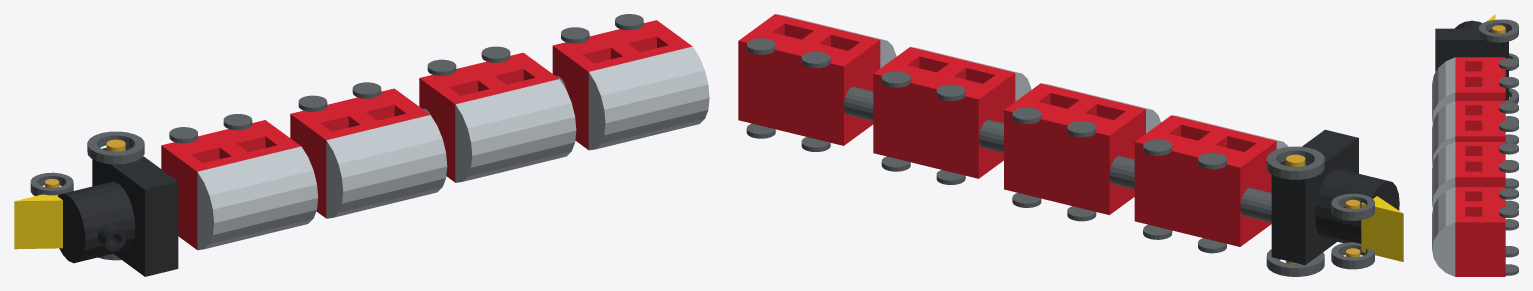
Rendered from tinker.obj.
The picture shows the model from 3 angles, left to right: view 1: azimuth 30°, elevation 25°; view 2: azimuth 150°, elevation 25°; view 3: azimuth 270°, elevation 25°; orthographic projection. The views are drawn at different scales.
Visible parts, largest first — view 1: group_0_12568524, group_0_15277357, group_0_2829873, group_0_6383466, group_0_16768282; view 2: group_0_15277357, group_0_6383466, group_0_2829873, group_0_16768282, group_0_12568524, group_0_14789940; view 3: group_0_15277357, group_0_12568524, group_0_6383466, group_0_2829873, group_0_14789940.
Boxes of the visible parts, bbox=[...] form: group_0_12568524: bbox=[197, 46, 709, 250]; group_0_15277357: bbox=[161, 20, 692, 249]; group_0_2829873: bbox=[57, 145, 178, 276]; group_0_6383466: bbox=[30, 14, 643, 260]; group_0_16768282: bbox=[14, 194, 62, 249]; group_0_15277357: bbox=[738, 14, 1276, 246]; group_0_6383466: bbox=[746, 38, 1374, 276]; group_0_2829873: bbox=[1271, 129, 1399, 265]; group_0_16768282: bbox=[1361, 196, 1403, 261]; group_0_12568524: bbox=[775, 14, 1288, 149]; group_0_14789940: bbox=[1286, 154, 1360, 263]; group_0_15277357: bbox=[1455, 57, 1505, 276]; group_0_12568524: bbox=[1432, 57, 1455, 276]; group_0_6383466: bbox=[1479, 19, 1518, 275]; group_0_2829873: bbox=[1435, 20, 1508, 100]; group_0_14789940: bbox=[1492, 25, 1505, 33].
Bounding box in the file's own units: 156 × 24 × 26.
